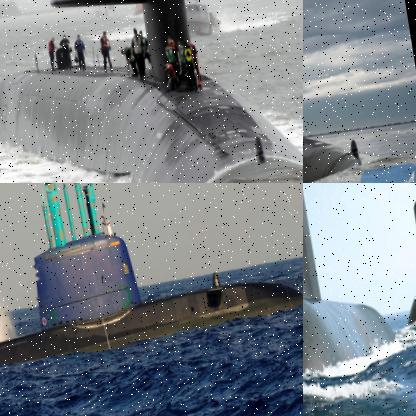Patrol Boat: (183, 0, 224, 38)
Submarine: (0, 183, 302, 383), (0, 0, 302, 182), (303, 183, 415, 406), (303, 0, 386, 182), (385, 189, 415, 327)
